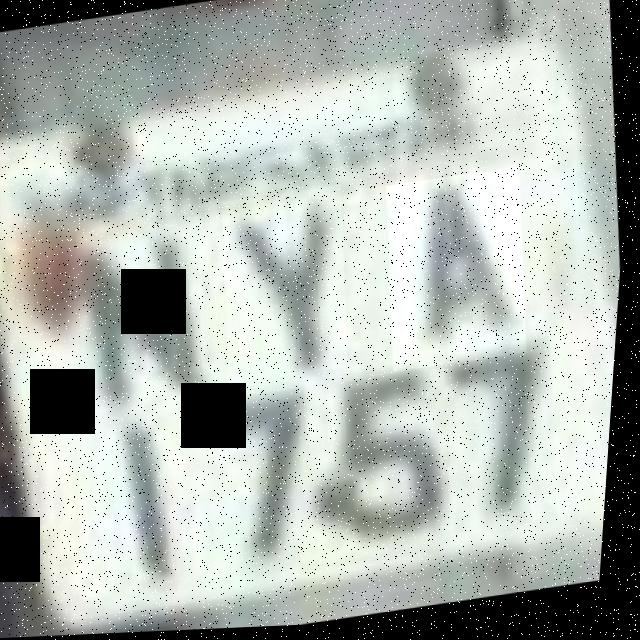1: (86, 402, 192, 580)
7: (164, 372, 327, 586), (421, 341, 574, 542)
A: (379, 170, 541, 376)
N: (63, 215, 216, 416)
Y: (215, 186, 364, 387)
